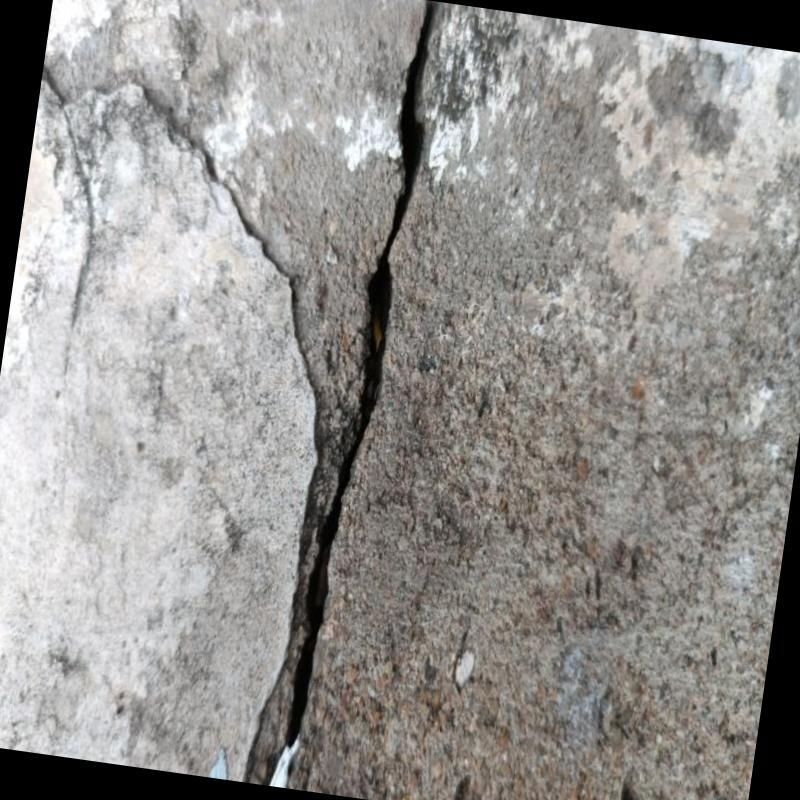pothole: (285, 0, 432, 747)
